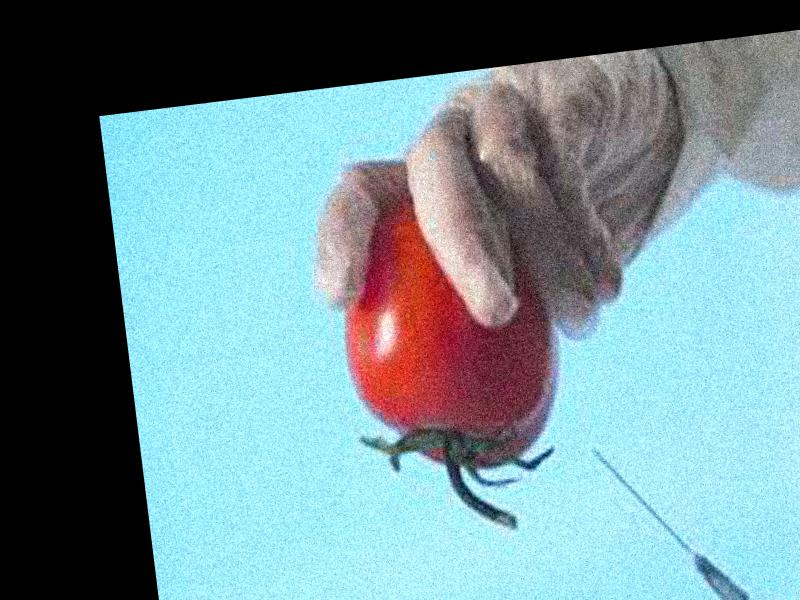Tomato: (327, 184, 568, 482)
